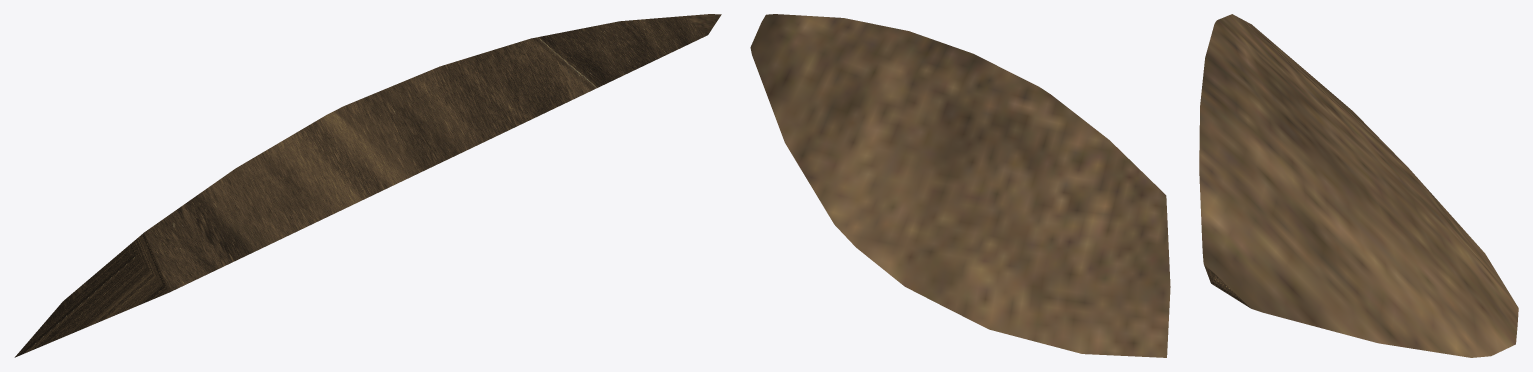
3 views of the same model, side by side, from view 1: azimuth 30°, elevation 25°; view 2: azimuth 150°, elevation 25°; view 3: azimuth 270°, elevation 25° (orthographic). The views are drawn at different scales.
Visible parts, largest first — view 1: Cylinder_cell; view 2: Cylinder_cell; view 3: Cylinder_cell.
Part boxes in pixels (x1,y1,x2,y2): Cylinder_cell: (14, 14, 721, 357); Cylinder_cell: (750, 14, 1170, 357); Cylinder_cell: (1199, 14, 1518, 357).
Size of the model in its own units: 0.4025 by 0.169 by 0.1322.
Materials: 1 (1 with a texture image).
